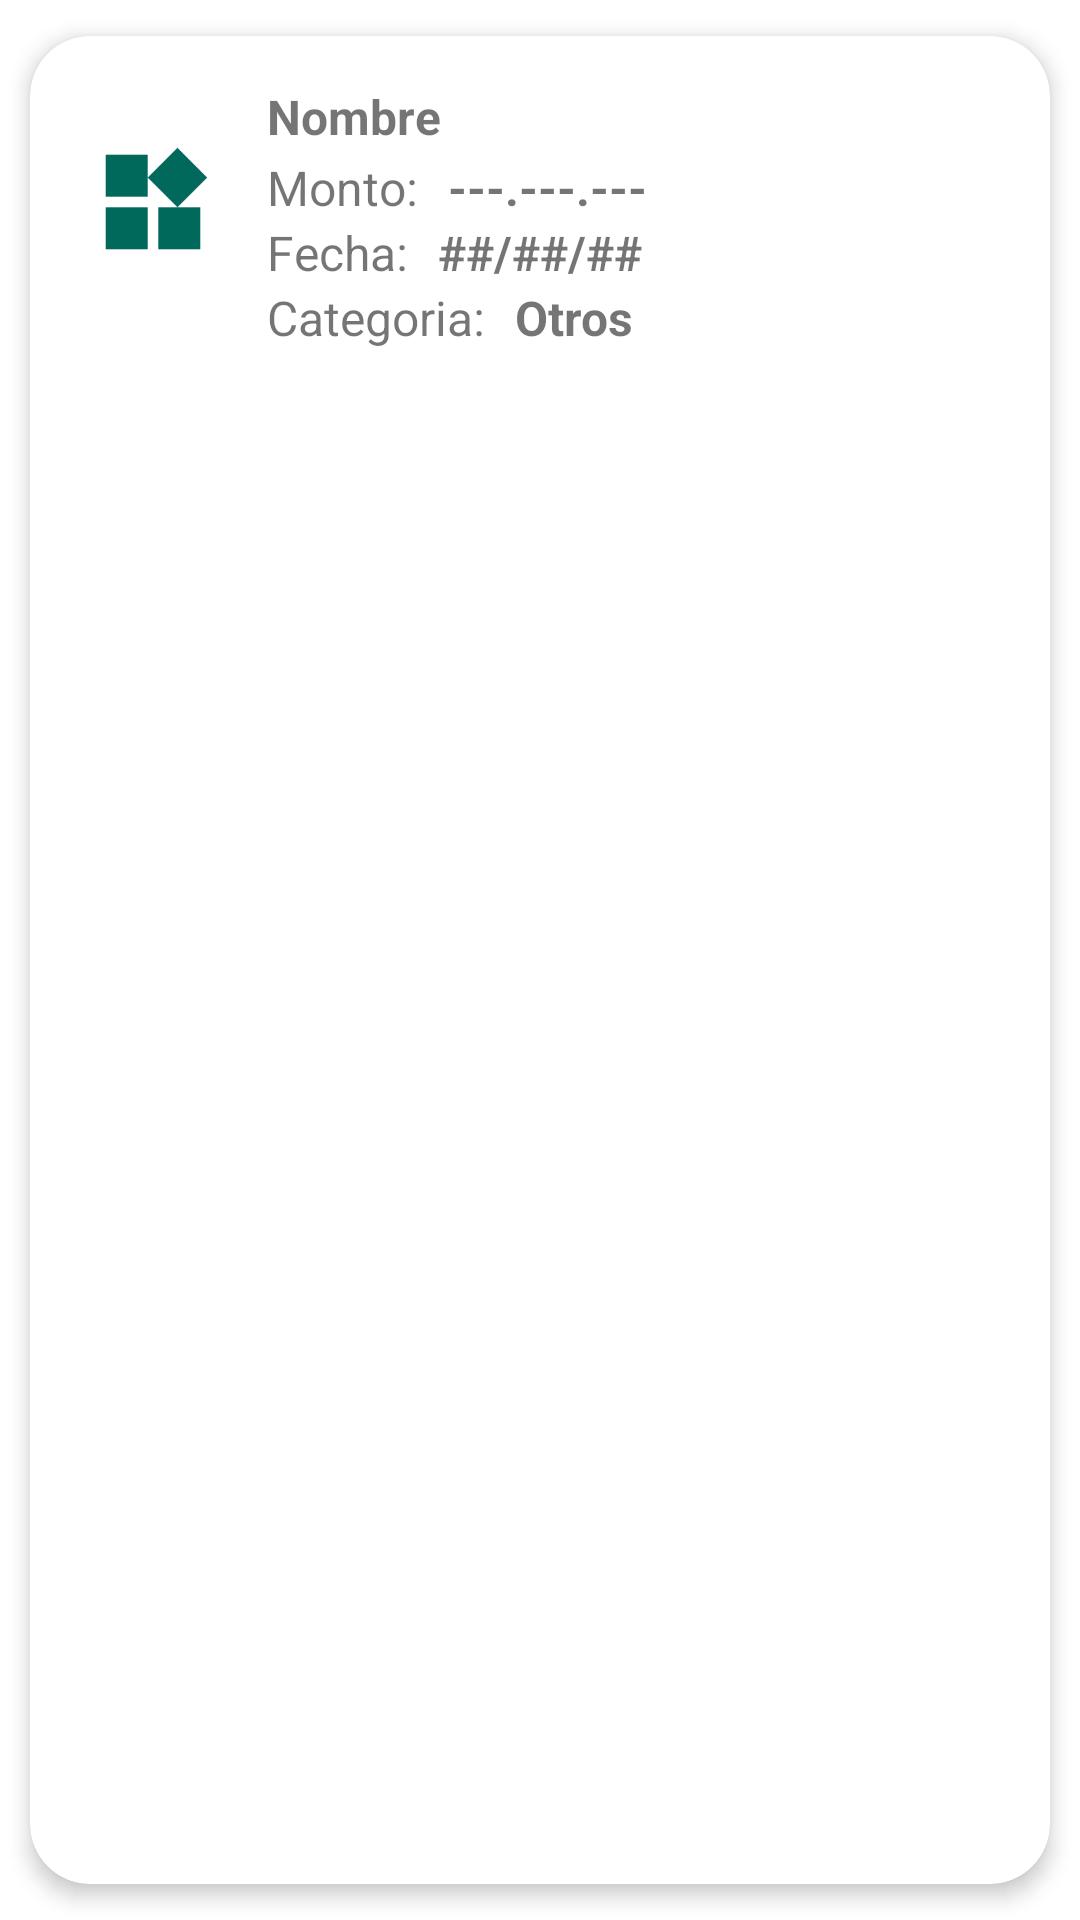

Screen size 1080px×1920px. Icon name, then its box in pixels as (x1, y1, x2, y2):
cat otros: (105, 147, 208, 250)
